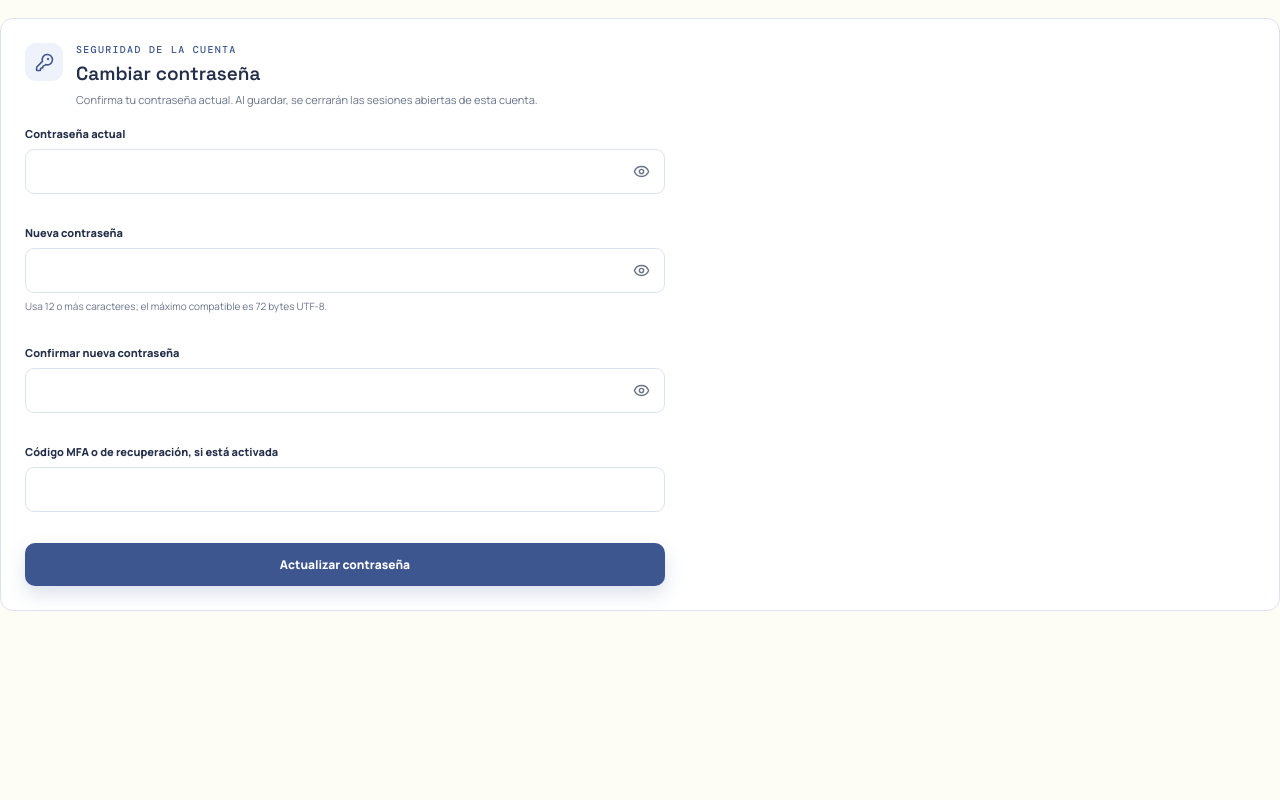
it: ChangePasswordCard › displays API errors without losing the entered values
The width and height of the screenshot is (1280, 800).
Type "wrong-password" into the password field labelled "Contraseña actual" at coordinates (345, 171), box [25,149,665,194]
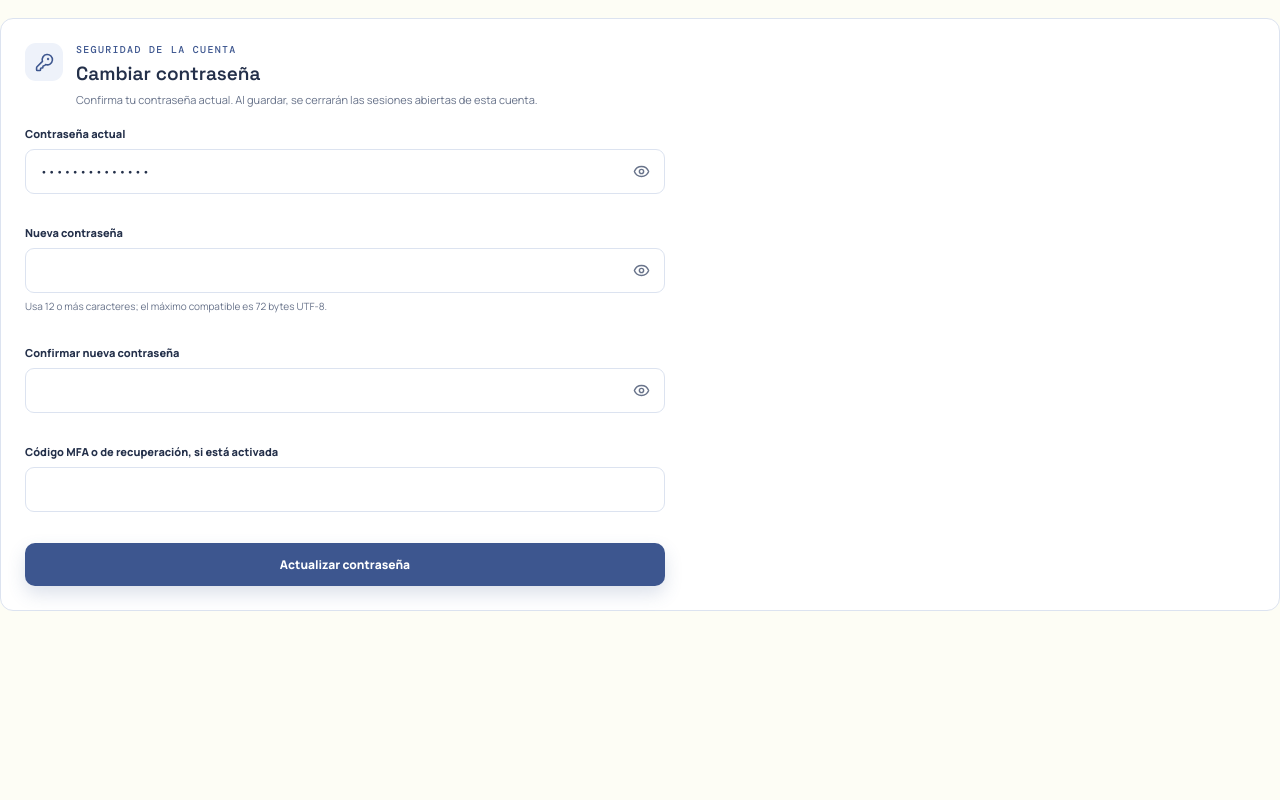
Type "a-long-new-password" into the password field labelled "Nueva contraseña" at coordinates (345, 270), box [25,248,665,293]
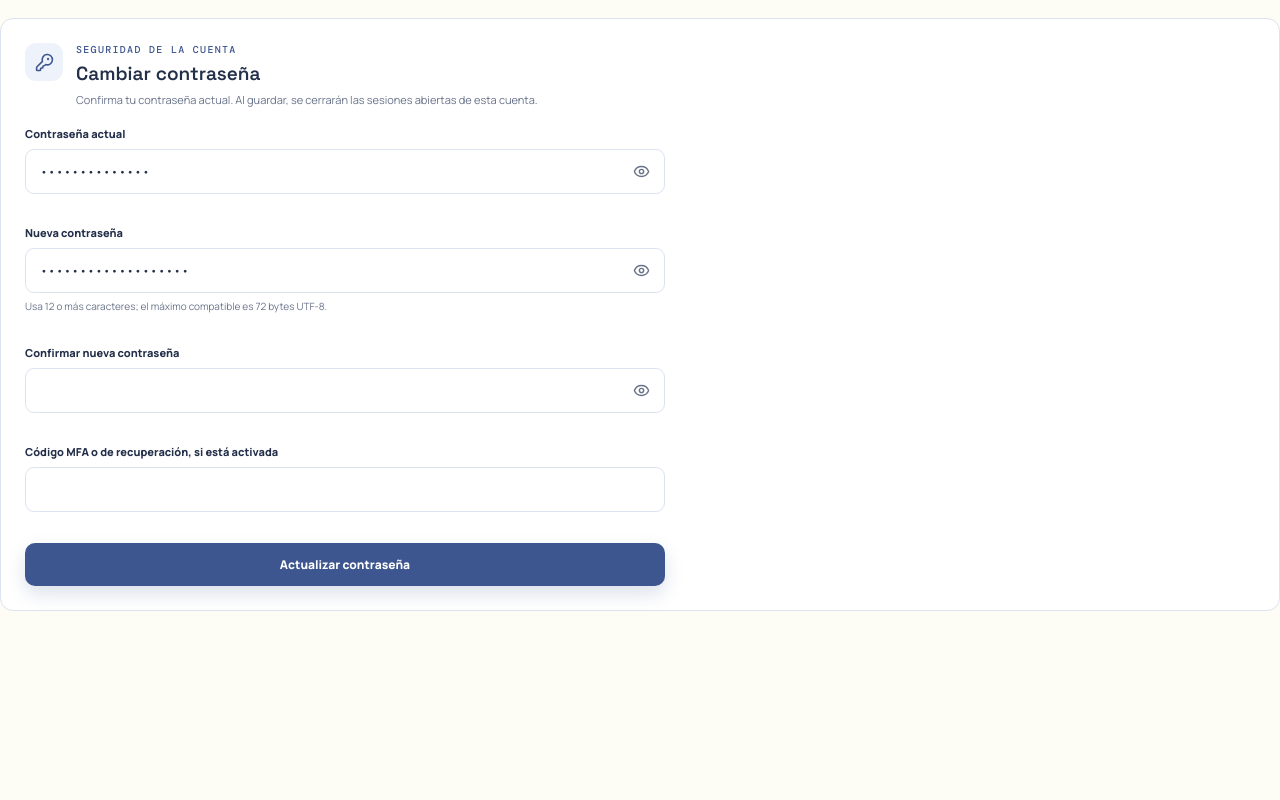
Type "a-long-new-password" into the password field labelled "Confirmar nueva contraseña" at coordinates (345, 390), box [25,368,665,413]
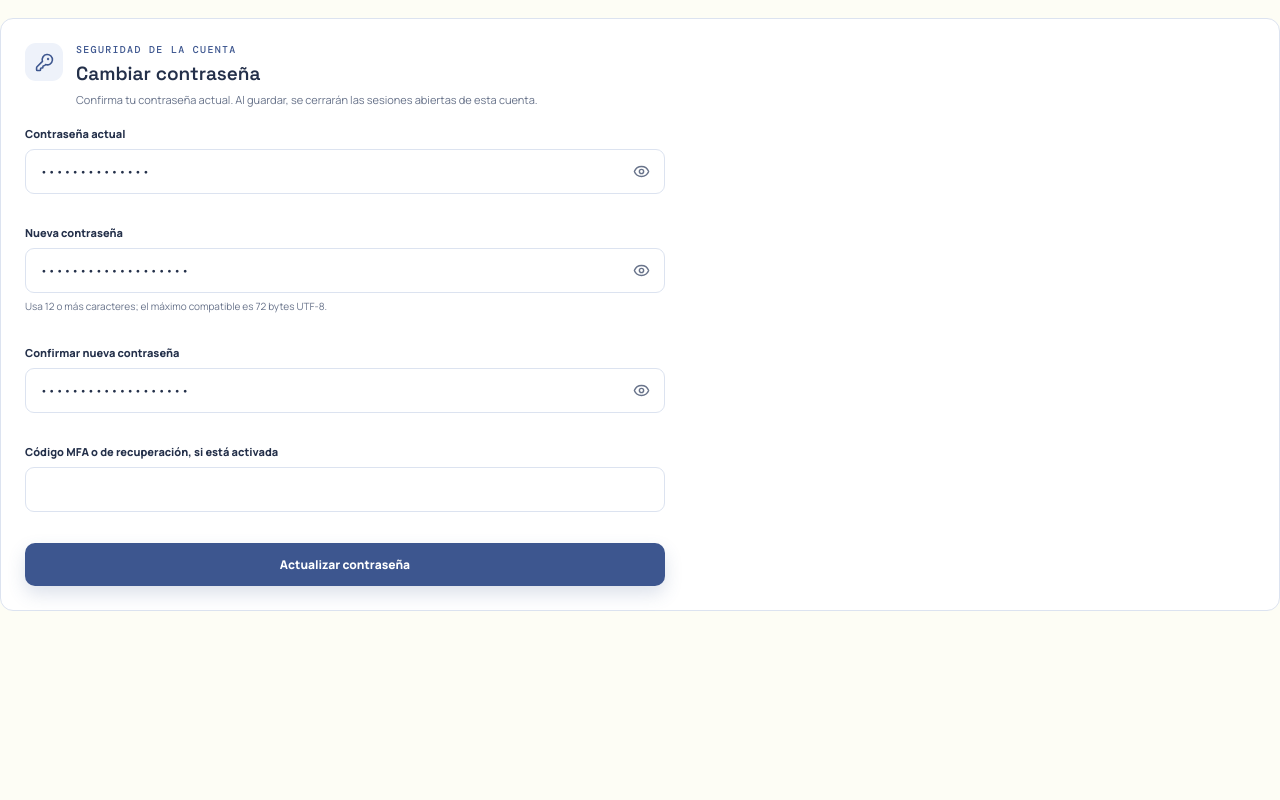
Submit the form named "Actualizar contraseña", box [25,126,665,586]
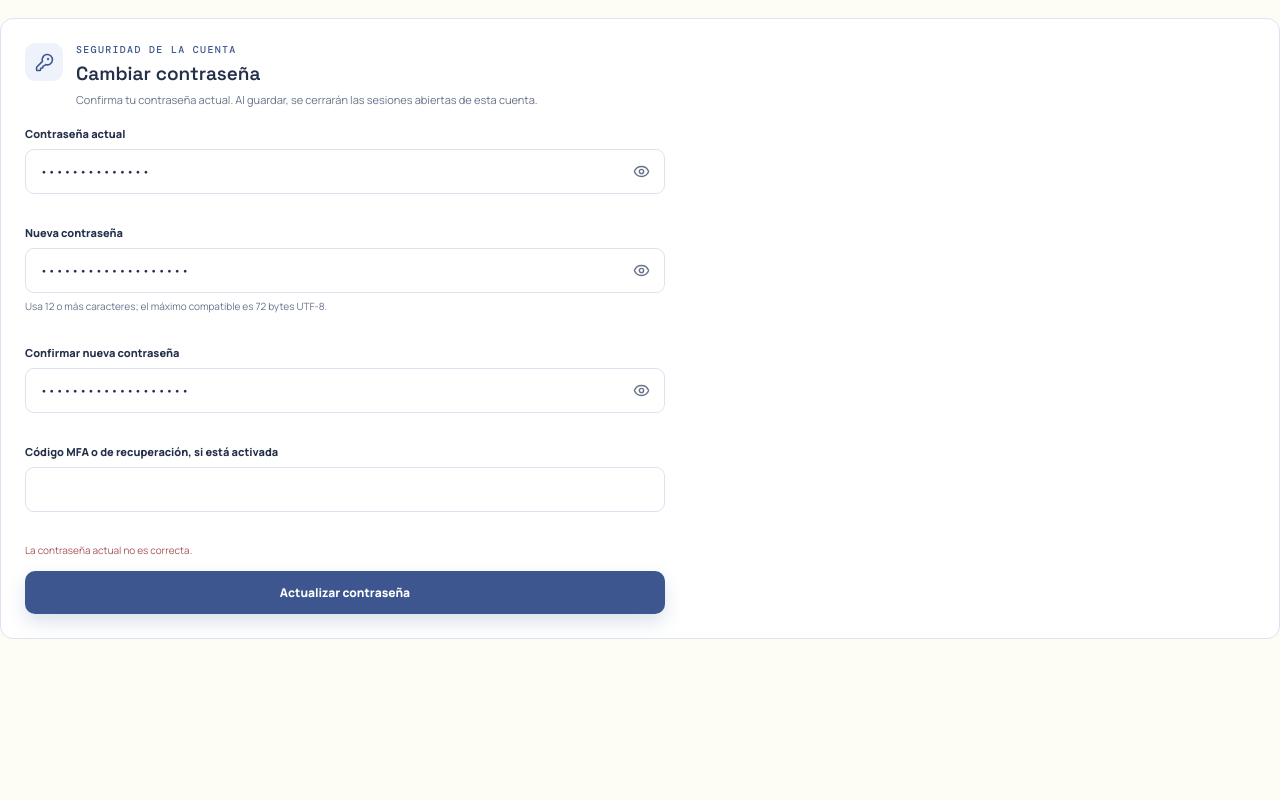
Now the message shows "no es correcta", box [25,543,192,557]
